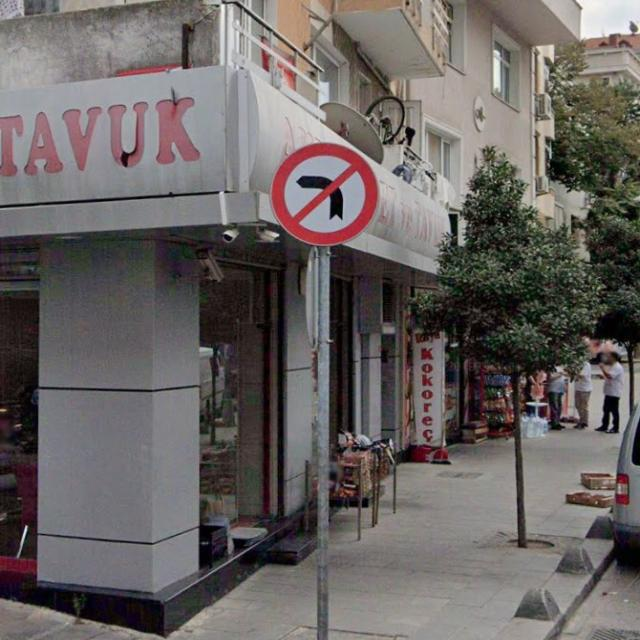soladonulmez: (271, 144, 378, 246)
